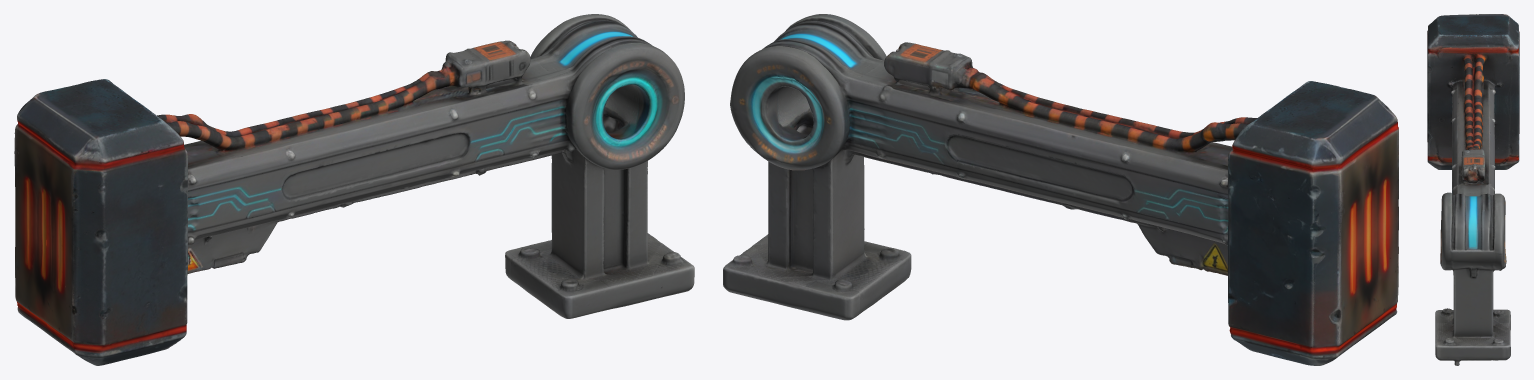
The model's file is hammer.glb.
3 views of the same model, side by side, from view 1: azimuth 30°, elevation 25°; view 2: azimuth 150°, elevation 25°; view 3: azimuth 270°, elevation 25° (orthographic). The views are drawn at different scales.
Bounding box in the file's own units: 2 × 0.9483 × 0.4392.
1 material, 1 textured.
